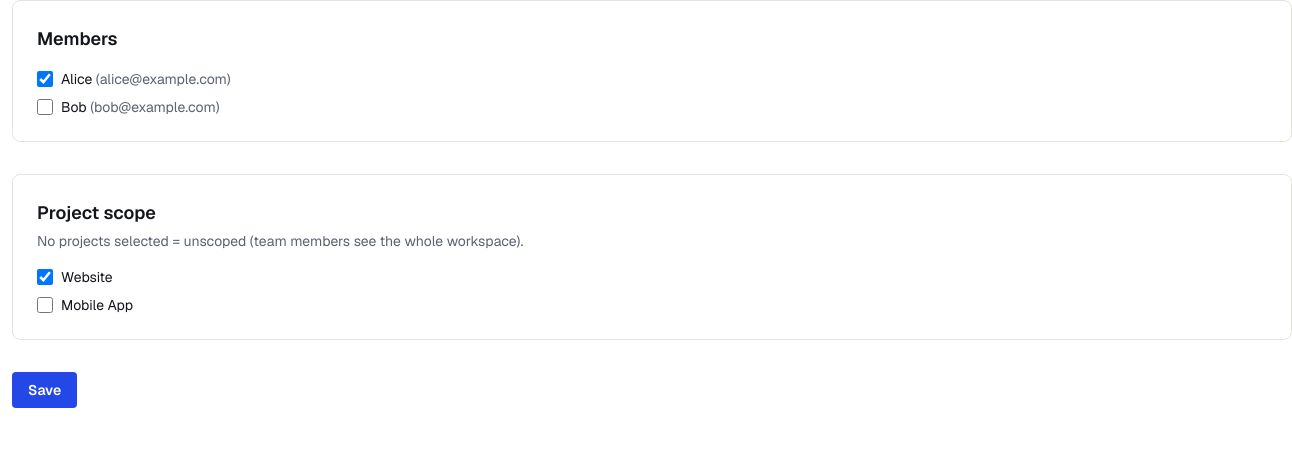
Test: TeamDetail › shows a 400 error message inline without crashing
Click the button "Save" at {"x": 45, "y": 390}, box [12, 372, 77, 408]
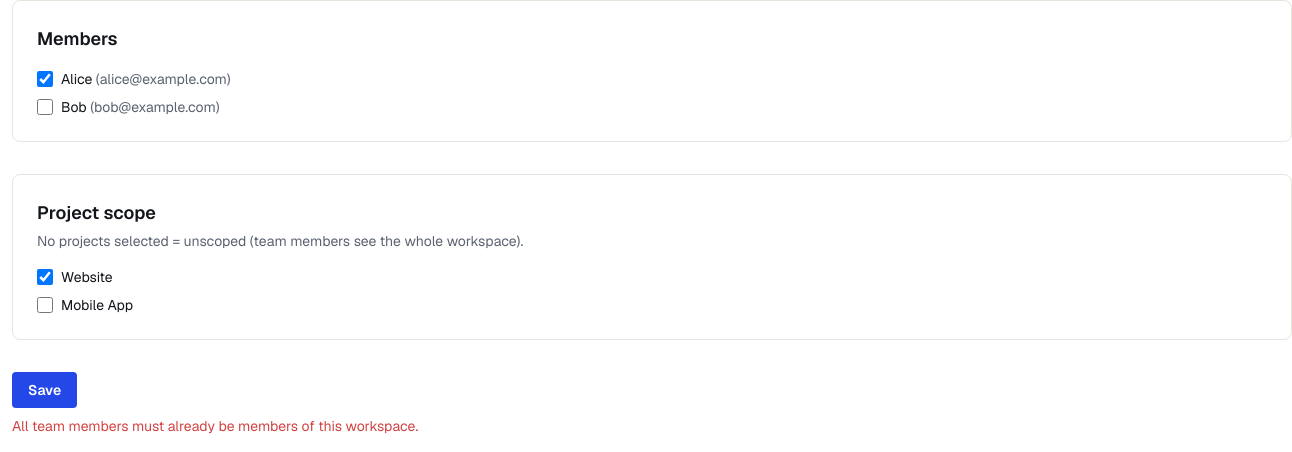
Check: the checkbox labelled "Alice (alice@example.com)" is shown, box [37, 71, 53, 87]
Check: the text "All team members must already be members of this workspace." is shown, box [12, 417, 418, 435]
